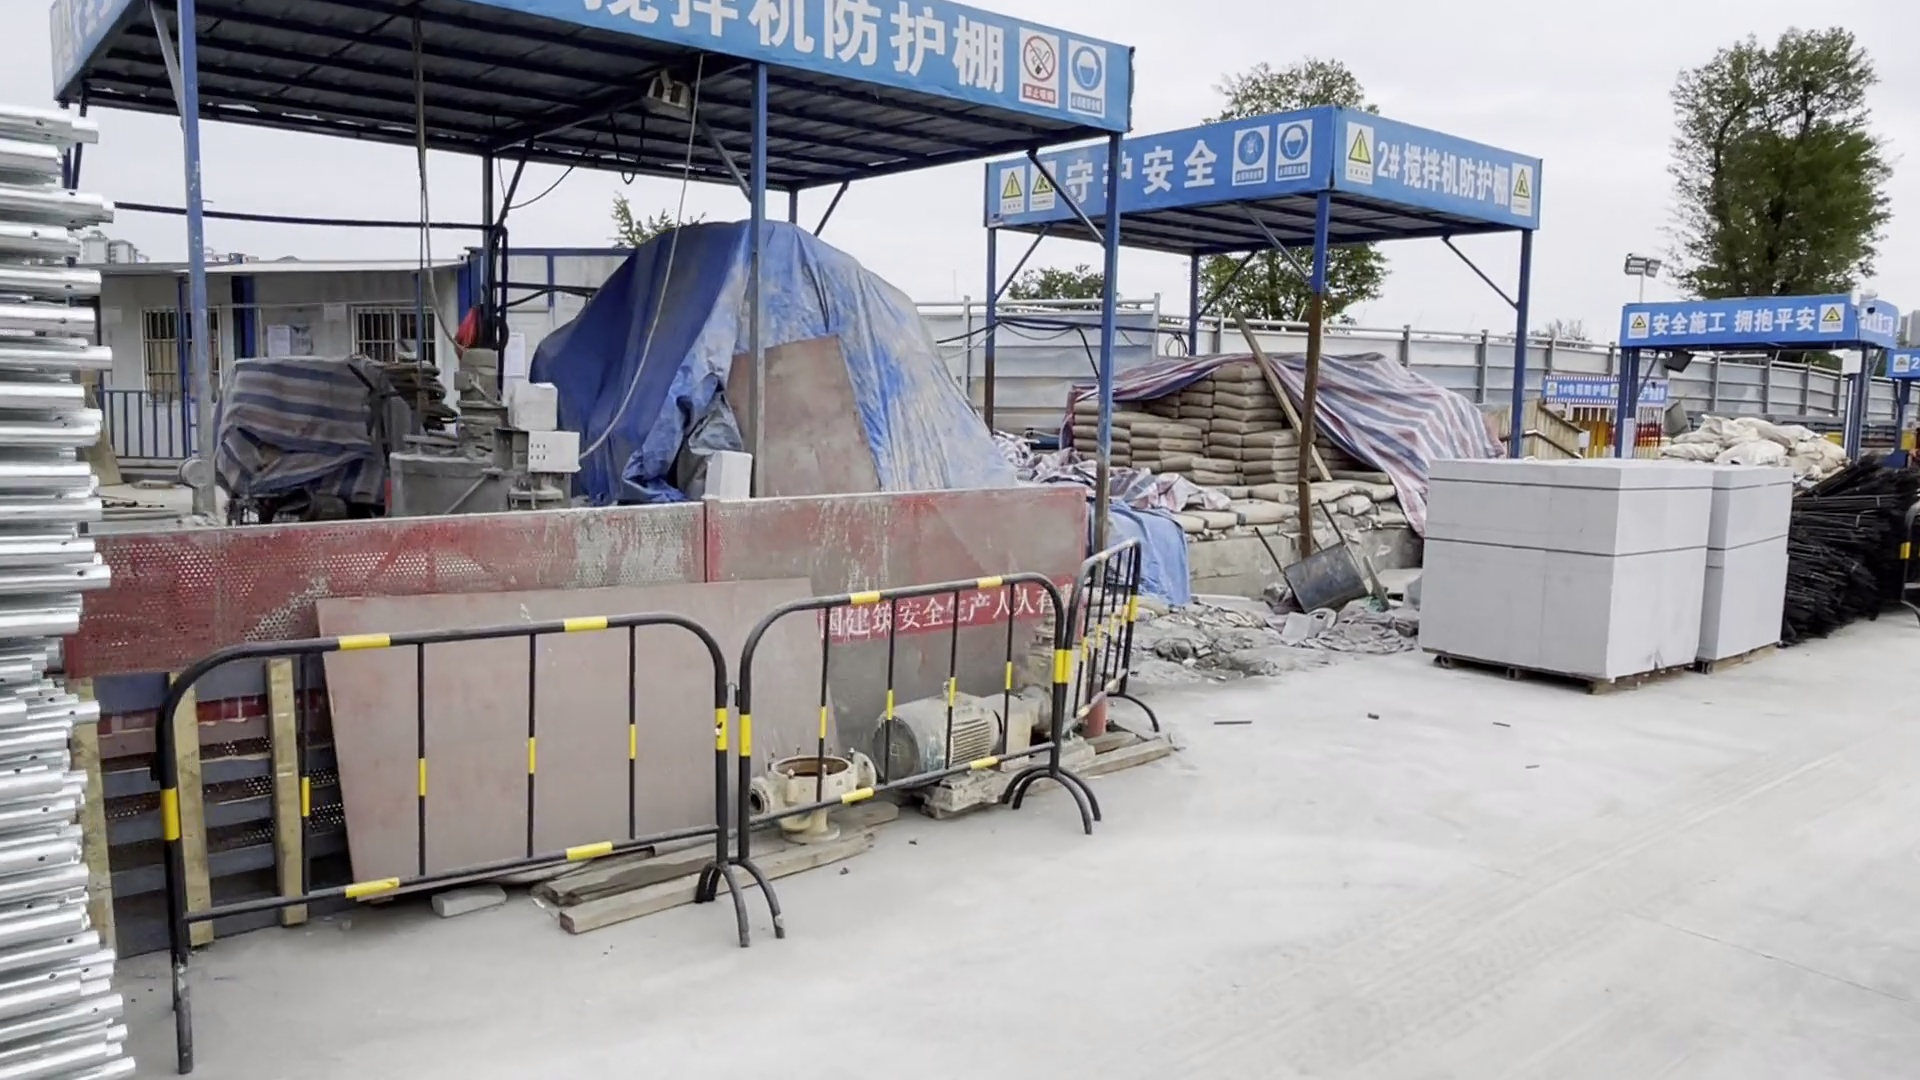brick: (1406, 452, 1708, 698), (1687, 455, 1797, 680)
slogan: (558, 1, 1108, 124), (1000, 113, 1317, 228), (1617, 293, 1857, 349)
